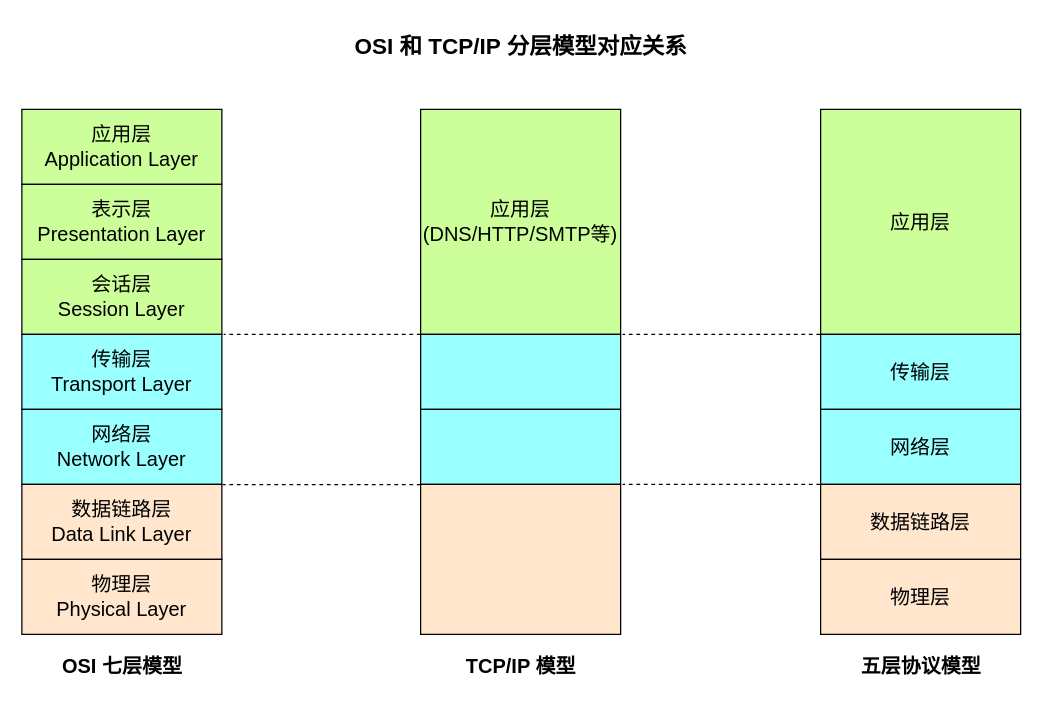
Some shapes in this 1043 by 705 pixel diagram are drawn without their labels. The centre of each missing label's shape, as x and y in pixels:
"传输层 (TCP / UDP)" belongs at (x=520, y=371).
"网络层/网际层 IP" belongs at (x=520, y=446).
"网络接口层 网际接入层" belongs at (x=520, y=558).
